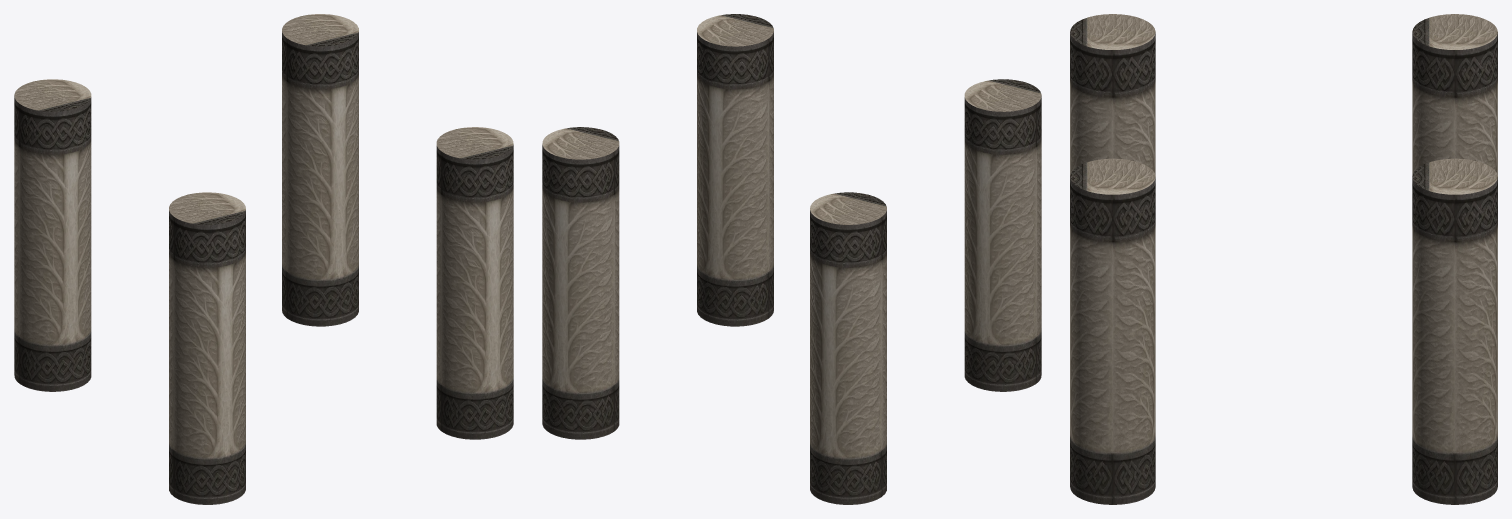
File: blk_pillars_castle.glb
The picture shows the model from 3 angles, left to right: view 1: azimuth 30°, elevation 25°; view 2: azimuth 150°, elevation 25°; view 3: azimuth 270°, elevation 25°; orthographic projection. The views are drawn at different scales.
Visible parts, largest first — view 1: 4 pillars; view 2: 4 pillars; view 3: 4 pillars.
Part boxes in pixels (left/top/right/bottom): 4 pillars: left=14, top=14, right=513, bottom=504; 4 pillars: left=542, top=14, right=1041, bottom=504; 4 pillars: left=1070, top=14, right=1497, bottom=504.
Size of the model in its own units: 2.5 by 2 by 2.5.
Materials: 1 (1 with a texture image).
